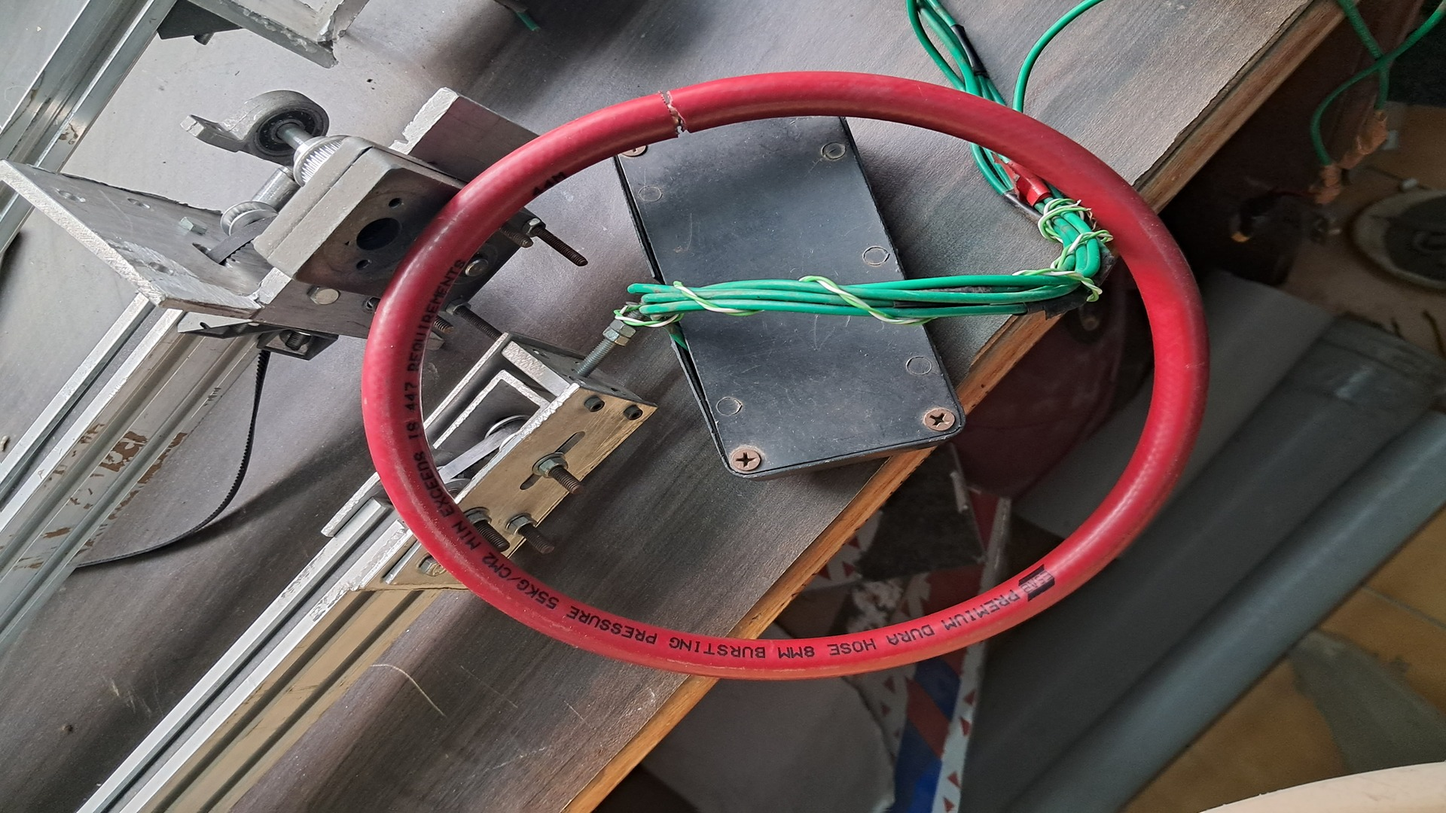Red ring: (377, 71, 1206, 674)
